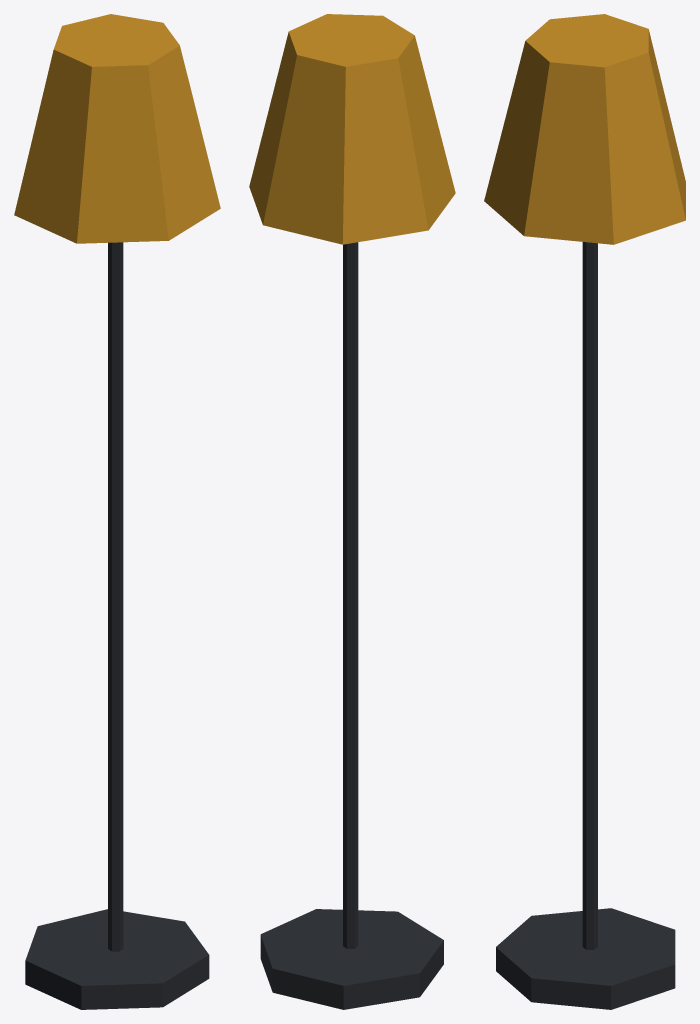
Rendered from floor-lamp-f0ba3f.glb.
3 views of the same model, side by side, from view 1: azimuth 30°, elevation 25°; view 2: azimuth 150°, elevation 25°; view 3: azimuth 270°, elevation 25° (orthographic).
Visible parts, largest first — view 1: floor-lamp; view 2: floor-lamp; view 3: floor-lamp.
Part boxes in pixels (x1,y1,x2,y2): floor-lamp: (14,14,220,1009); floor-lamp: (249,14,455,1009); floor-lamp: (484,14,685,1009).
Size of the model in its own units: 0.351 by 1.74 by 0.3422.
